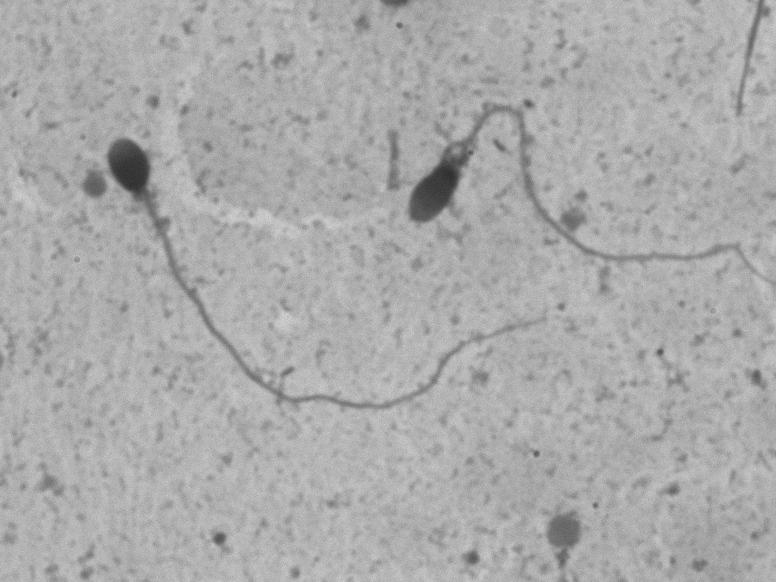Abnormal: (390, 74, 744, 290)
Normal: (89, 110, 566, 436)
